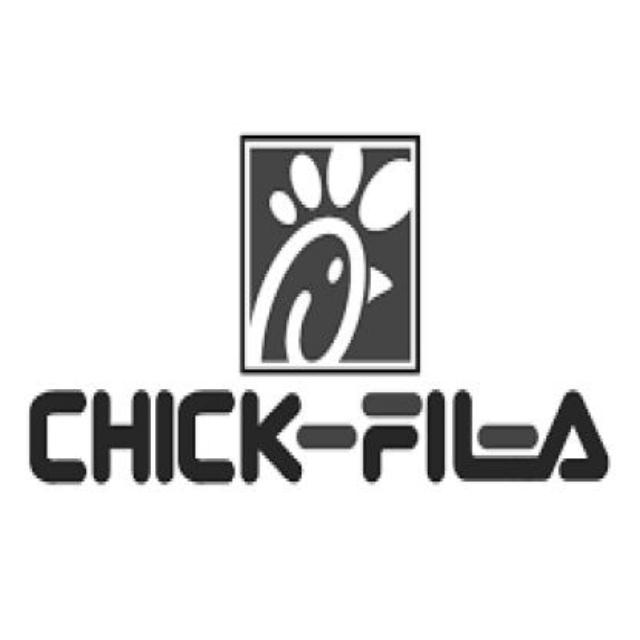FILA_fake: (21, 86, 616, 578)
